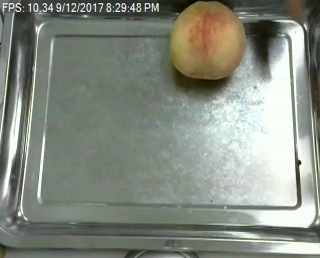Peach: (171, 0, 245, 80)
